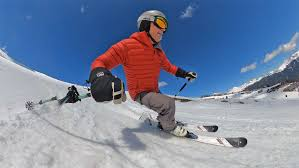skis: (143, 122, 251, 149)
